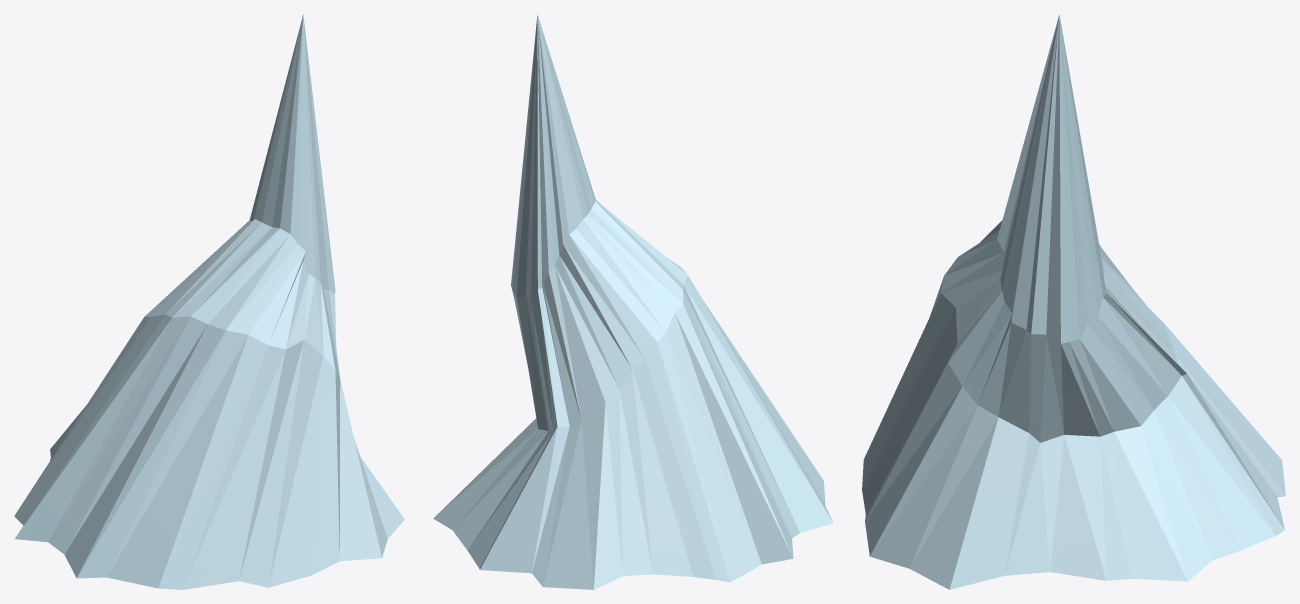
File: icespike.obj
The picture shows the model from 3 angles, left to right: view 1: azimuth 30°, elevation 25°; view 2: azimuth 150°, elevation 25°; view 3: azimuth 270°, elevation 25°; orthographic projection. The views are drawn at different scales.
Parts seen in each view (by area): view 1: Cone; view 2: Cone; view 3: Cone.
Part boxes in pixels (<box>): Cone: <box>14,15,404,589</box>; Cone: <box>433,14,833,589</box>; Cone: <box>862,14,1285,589</box>.
Bounding box in the file's own units: 1.45 × 2.1 × 1.44.
